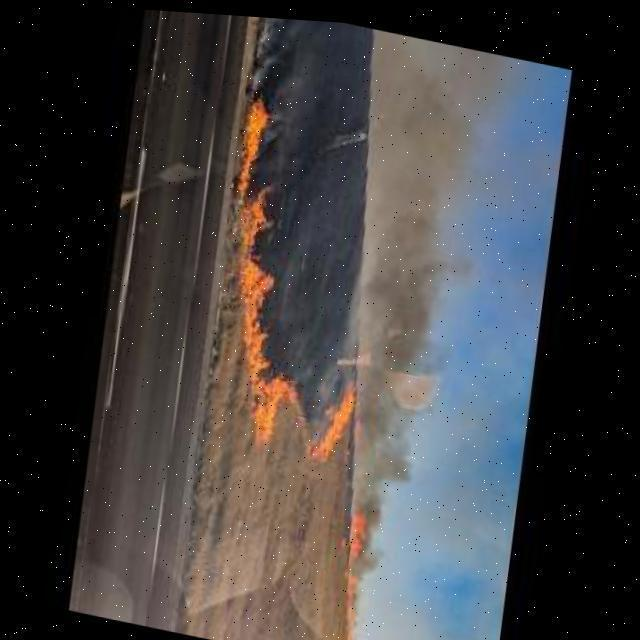fire: (200, 94, 406, 462), (320, 501, 380, 640)
